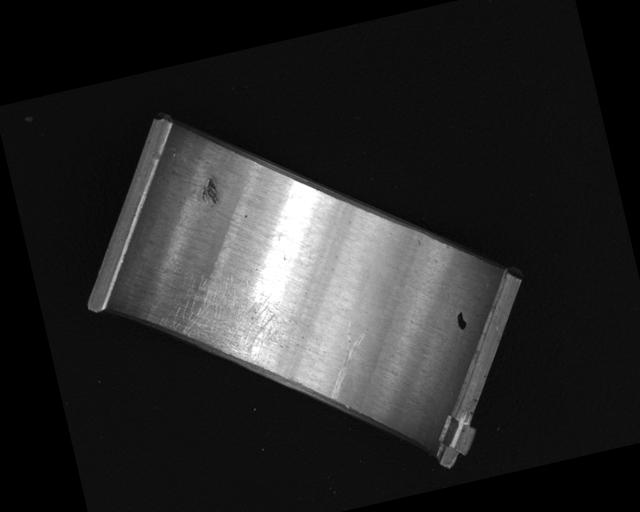blot: (453, 310, 468, 332)
bruise: (197, 176, 223, 211)
nick: (312, 315, 378, 400)
scratch: (141, 254, 305, 389)
